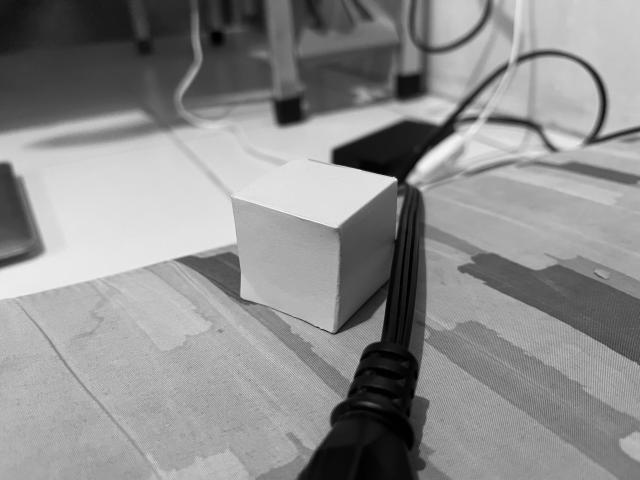wire: (296, 181, 425, 480)
